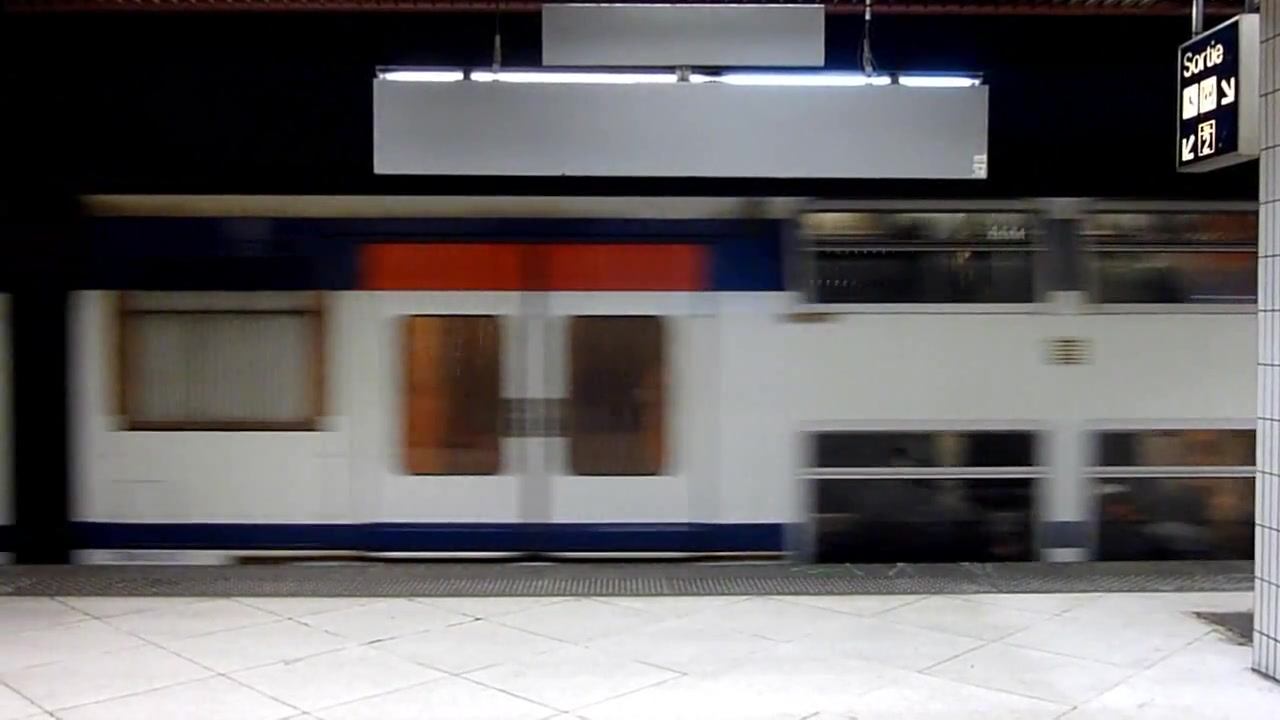train: (69, 176, 1262, 572)
